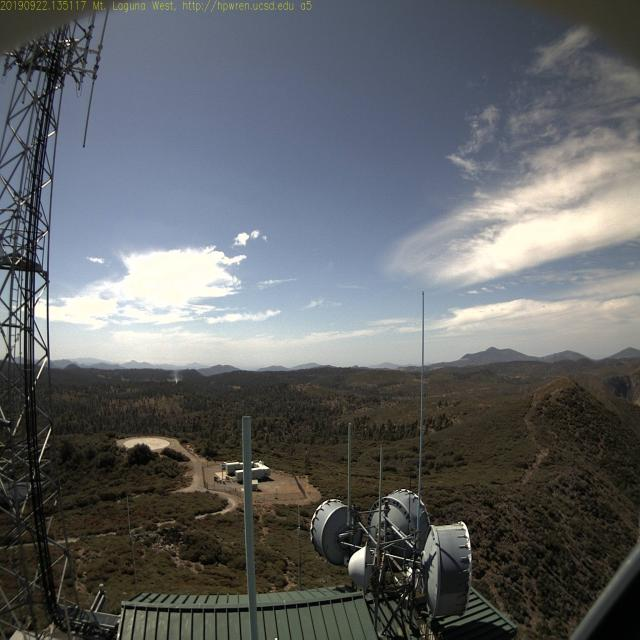smoke: (167, 362, 183, 386)
